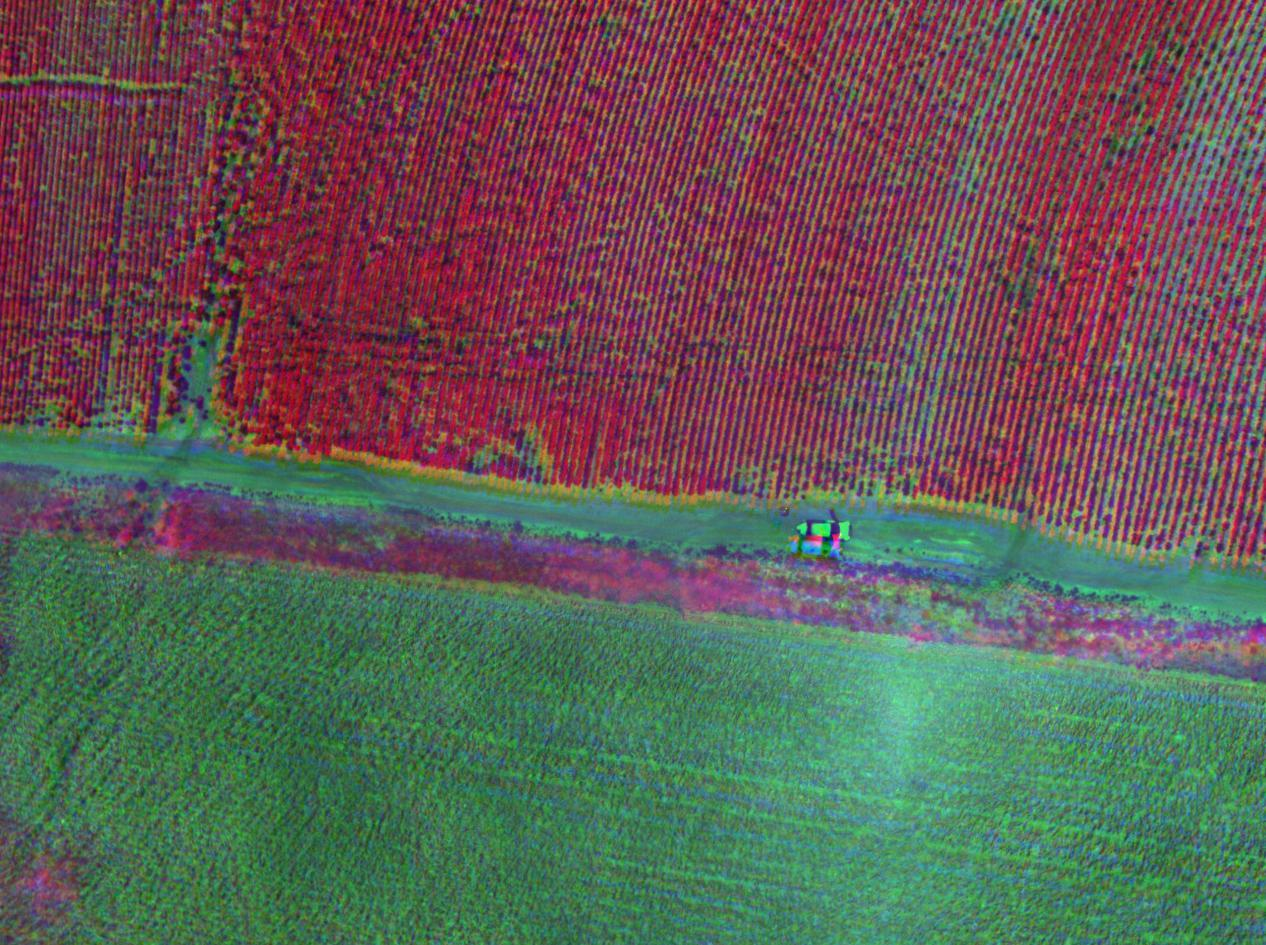dc: (147, 295, 258, 438), (974, 213, 1093, 341), (769, 430, 932, 505), (457, 405, 570, 490)
